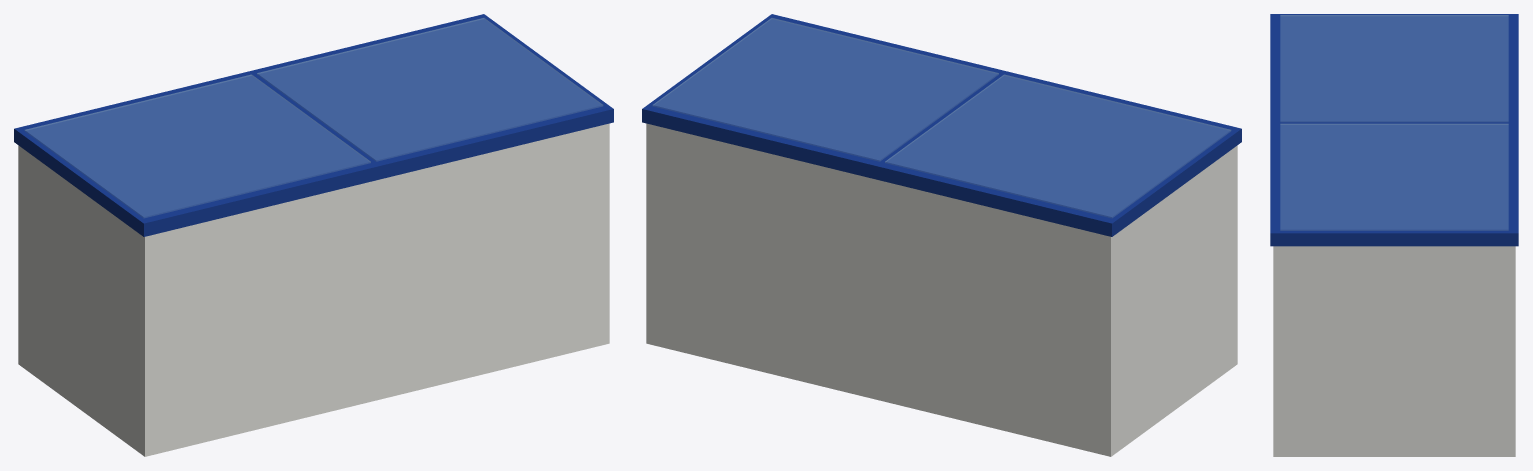
Rendered from retail.store.freezer.glb.
3 views of the same model, side by side, from view 1: azimuth 30°, elevation 25°; view 2: azimuth 150°, elevation 25°; view 3: azimuth 270°, elevation 25° (orthographic). The views are drawn at different scales.
Visible parts, largest first — view 1: main__paint_white, main__plastic_blue, main__glass; view 2: main__paint_white, main__plastic_blue, main__glass; view 3: main__plastic_blue, main__paint_white, main__glass.
Boxes of the visible parts, <box> form: main__paint_white: <box>18,123,609,456</box>; main__plastic_blue: <box>14,14,613,236</box>; main__glass: <box>25,18,602,217</box>; main__paint_white: <box>646,123,1237,456</box>; main__plastic_blue: <box>642,14,1241,236</box>; main__glass: <box>653,18,1230,217</box>; main__plastic_blue: <box>1270,14,1518,246</box>; main__paint_white: <box>1273,246,1515,456</box>; main__glass: <box>1280,15,1508,230</box>.
Size of the model in its own units: 1.82 by 0.875 by 0.87.
